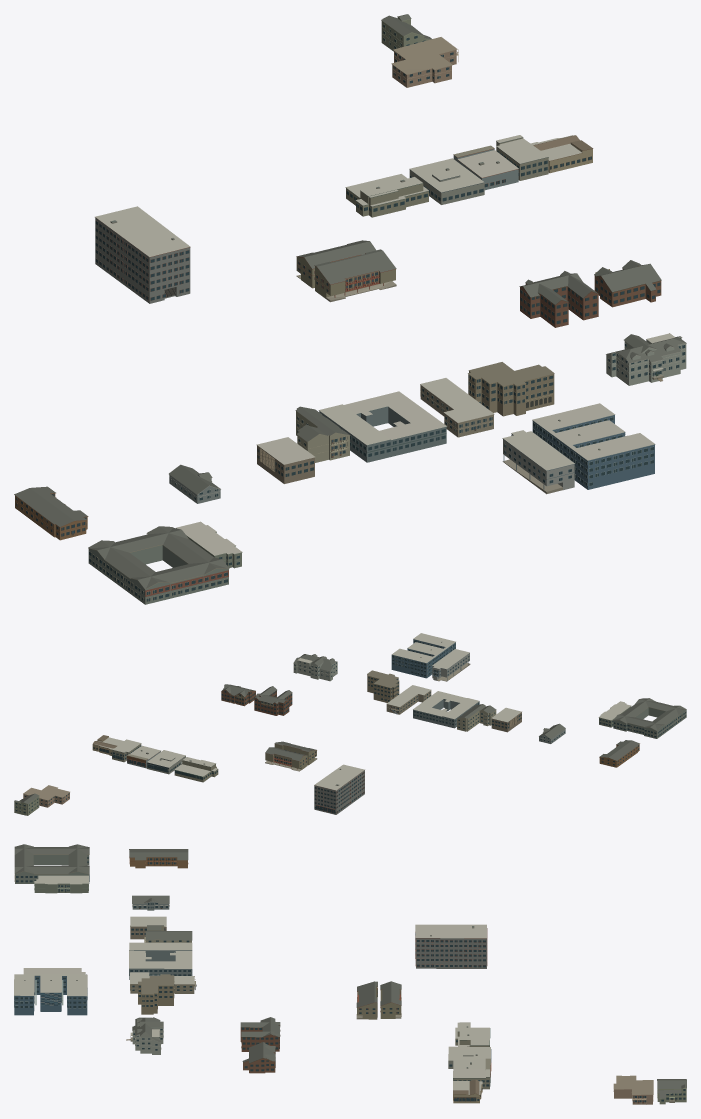
Rendered from site.glb.
3 views of the same model, one above another, from view 1: azimuth 30°, elevation 25°; view 2: azimuth 150°, elevation 25°; view 3: azimuth 270°, elevation 25° (orthographic). The views are drawn at different scales.
Parts seen in each view (by area): view 1: roof-9d174b26, roof-a392e59a, roof-4058a38b, roof-d798dc2a, roof-54ce4ba0, roof-03784b41, roof-f9516e15, alder-1360-south, east15-766, roof-60066458, roof-9cc440db, roof-ada23895 (+13 smaller); view 2: roof-9d174b26, roof-a392e59a, roof-4058a38b, roof-d798dc2a, roof-03784b41, roof-f9516e15, roof-54ce4ba0, roof-ada23895, roof-60066458, east15-766, east15-733, roof-6a85a0c3 (+12 smaller); view 3: roof-a392e59a, roof-4058a38b, roof-9d174b26, roof-d798dc2a, roof-54ce4ba0, roof-6a85a0c3, roof-03784b41, roof-f9516e15, east15-670, roof-9cc440db, roof-ac86161b, roof-ada23895 (+11 smaller).
Part boxes in pixels (x1=…): roof-9d174b26: x1=88, y1=526, x2=229, y2=604; roof-a392e59a: x1=95, y1=206, x2=190, y2=303; roof-4058a38b: x1=532, y1=403, x2=655, y2=489; roof-d798dc2a: x1=318, y1=391, x2=447, y2=462; roof-54ce4ba0: x1=468, y1=362, x2=554, y2=416; roof-03784b41: x1=606, y1=333, x2=686, y2=385; roof-f9516e15: x1=519, y1=271, x2=598, y2=327; alder-1360-south: x1=314, y1=249, x2=396, y2=298; east15-766: x1=502, y1=430, x2=574, y2=490; roof-60066458: x1=420, y1=378, x2=494, y2=437; roof-9cc440db: x1=391, y1=37, x2=458, y2=87; roof-ada23895: x1=345, y1=174, x2=428, y2=217; roof-9d174b26: x1=613, y1=698, x2=686, y2=738; roof-a392e59a: x1=314, y1=764, x2=364, y2=814; roof-4058a38b: x1=391, y1=633, x2=455, y2=678; roof-d798dc2a: x1=413, y1=691, x2=479, y2=728; roof-03784b41: x1=293, y1=654, x2=337, y2=681; roof-f9516e15: x1=254, y1=686, x2=292, y2=715; roof-54ce4ba0: x1=367, y1=670, x2=399, y2=702; roof-ada23895: x1=174, y1=757, x2=218, y2=782; roof-60066458: x1=386, y1=685, x2=431, y2=714; east15-766: x1=432, y1=649, x2=469, y2=680; east15-733: x1=457, y1=704, x2=496, y2=731; roof-6a85a0c3: x1=599, y1=740, x2=639, y2=767; roof-a392e59a: x1=415, y1=924, x2=487, y2=968; roof-4058a38b: x1=14, y1=974, x2=87, y2=1015; roof-9d174b26: x1=14, y1=844, x2=89, y2=883; roof-d798dc2a: x1=129, y1=942, x2=192, y2=979; roof-54ce4ba0: x1=138, y1=974, x2=174, y2=1014; roof-6a85a0c3: x1=129, y1=849, x2=188, y2=868; roof-03784b41: x1=130, y1=1017, x2=163, y2=1054; roof-f9516e15: x1=240, y1=1017, x2=280, y2=1051; east15-670: x1=34, y1=875, x2=88, y2=893; roof-9cc440db: x1=613, y1=1075, x2=653, y2=1104; roof-ac86161b: x1=242, y1=1042, x2=275, y2=1073; roof-ada23895: x1=455, y1=1022, x2=490, y2=1046.
Size of the model in its own units: 361 by 21.86 by 409.
